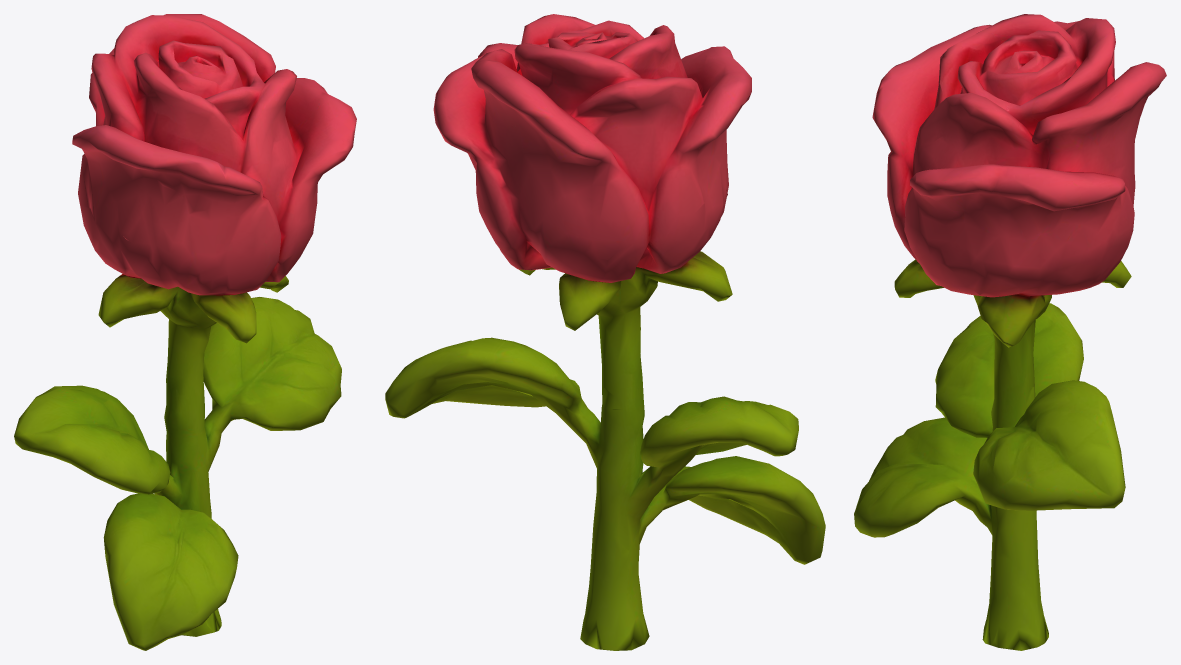
Rendered from rose_s4.glb.
3 views of the same model, side by side, from view 1: azimuth 30°, elevation 25°; view 2: azimuth 150°, elevation 25°; view 3: azimuth 270°, elevation 25° (orthographic). The views are drawn at different scales.
Parts seen in each view (by area): view 1: tripo_node_b9756314-2831-4a99-981a-11befabb5e2c; view 2: tripo_node_b9756314-2831-4a99-981a-11befabb5e2c; view 3: tripo_node_b9756314-2831-4a99-981a-11befabb5e2c.
Part boxes in pixels (x1=…): tripo_node_b9756314-2831-4a99-981a-11befabb5e2c: x1=14, y1=14, x2=356, y2=650; tripo_node_b9756314-2831-4a99-981a-11befabb5e2c: x1=385, y1=14, x2=825, y2=650; tripo_node_b9756314-2831-4a99-981a-11befabb5e2c: x1=854, y1=14, x2=1166, y2=650.
Bounding box in the file's own units: 0.6147 × 1 × 0.4657.
Materials: 1 (1 with a texture image).
